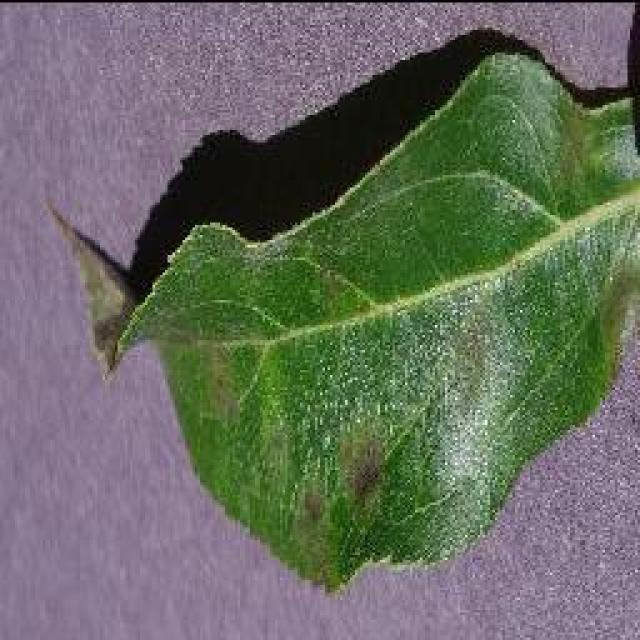apple scab disease: (45, 27, 637, 595)
